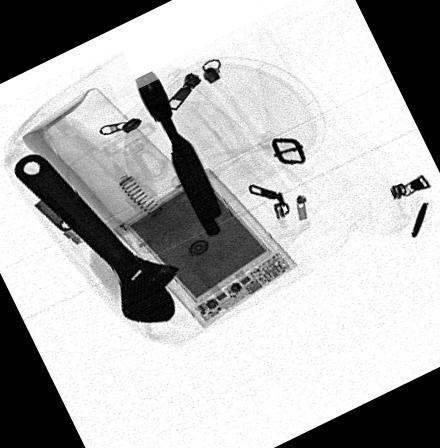Pliers: (133, 69, 221, 237)
Powerbank: (111, 165, 297, 327)
Wrench: (13, 152, 176, 322)
